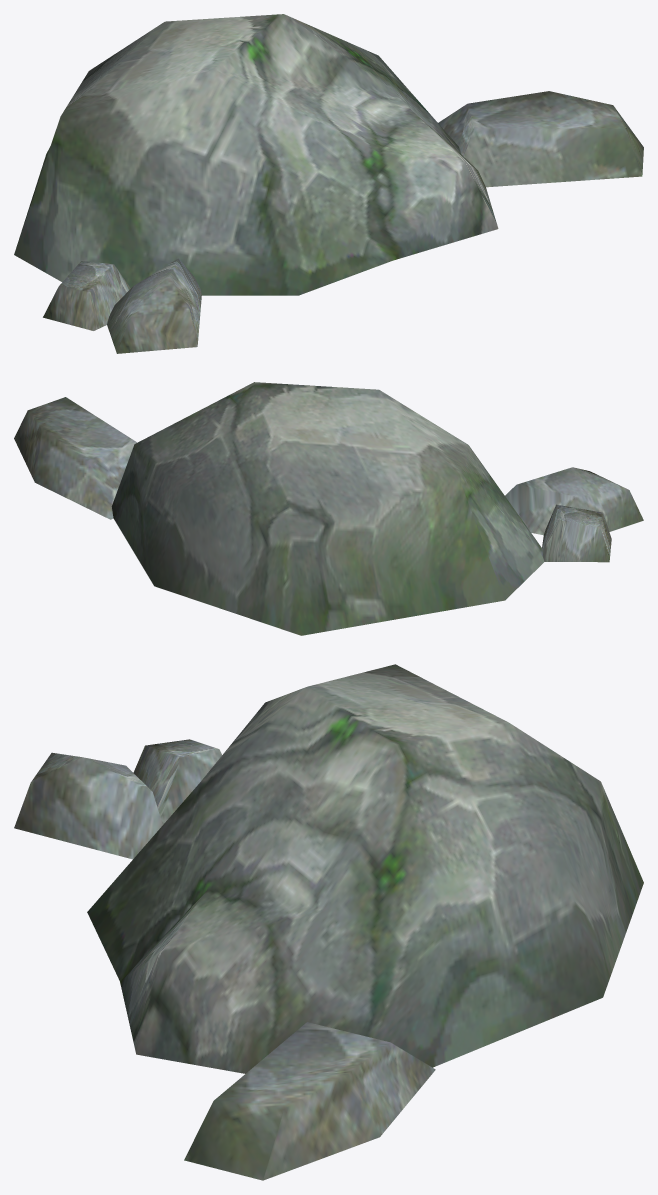
The model's file is yw_yanziwu_shidui03.FBX.
The picture shows the model from 3 angles, top to bottom: view 1: azimuth 30°, elevation 25°; view 2: azimuth 150°, elevation 25°; view 3: azimuth 270°, elevation 25°; orthographic projection. The views are drawn at different scales.
Visible parts, largest first — view 1: yw_yanziwu_shidui03; view 2: yw_yanziwu_shidui03; view 3: yw_yanziwu_shidui03.
Boxes of the visible parts, x1,y1,x2,y2 form: yw_yanziwu_shidui03: [14, 14, 643, 353]; yw_yanziwu_shidui03: [14, 382, 643, 635]; yw_yanziwu_shidui03: [14, 664, 643, 1180].
Size of the model in its own units: 150 by 39.76 by 97.78.
